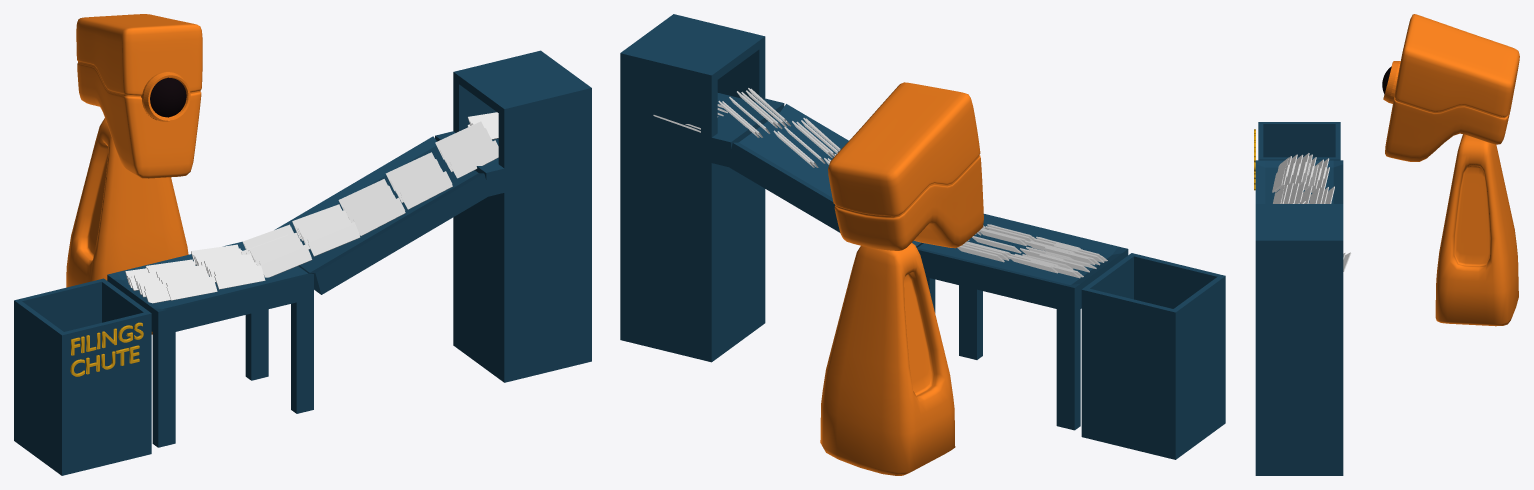
The model's file is ChadRobot.glb.
The picture shows the model from 3 angles, left to right: view 1: azimuth 30°, elevation 25°; view 2: azimuth 150°, elevation 25°; view 3: azimuth 270°, elevation 25°; orthographic projection. The views are drawn at different scales.
Visible parts, largest first — view 1: Body, Head; view 2: Body, Head; view 3: Body, Head.
Part boxes in pixels (<box>): Body: <box>14,50,591,475</box>; Head: <box>76,14,202,178</box>; Body: <box>620,14,1225,475</box>; Head: <box>828,82,983,250</box>; Body: <box>1254,122,1518,475</box>; Head: <box>1382,14,1519,161</box>.
Size of the model in its own units: 6.49 by 4.17 by 3.29.
